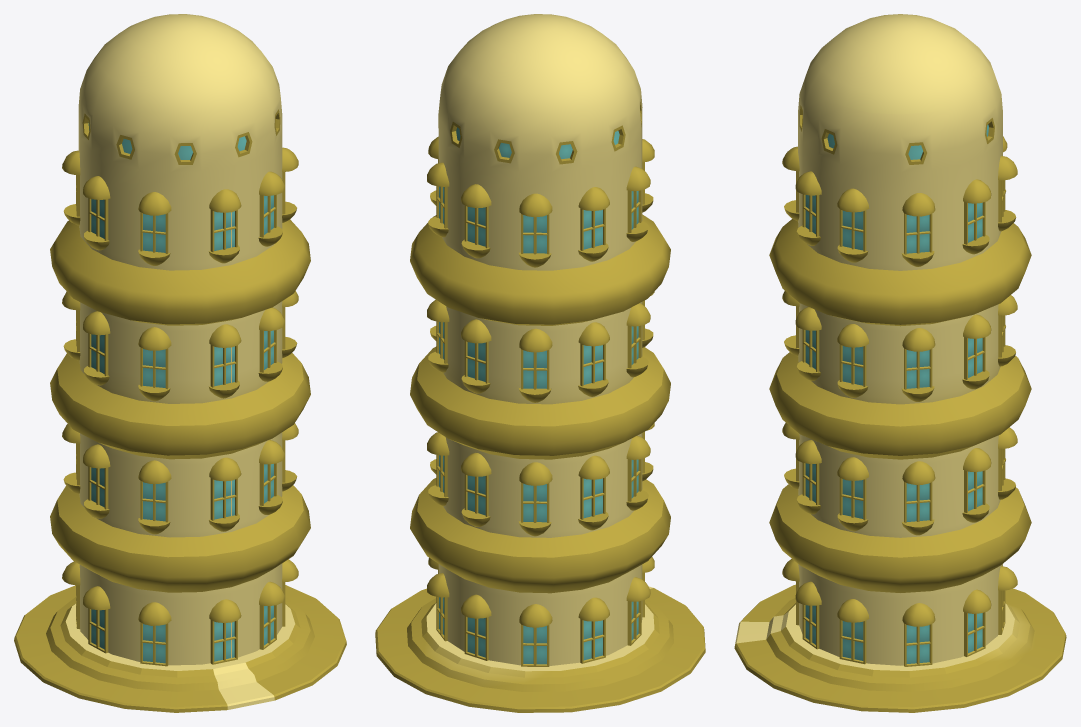
The model's file is SM_Skyscraper_24.fbx.
The picture shows the model from 3 angles, left to right: view 1: azimuth 30°, elevation 25°; view 2: azimuth 150°, elevation 25°; view 3: azimuth 270°, elevation 25°; orthographic projection.
Parts seen in each view (by area): view 1: SM_Skyscraper_24; view 2: SM_Skyscraper_24; view 3: SM_Skyscraper_24.
Boxes of the visible parts, x1,y1,x2,y2 form: SM_Skyscraper_24: [14, 14, 346, 712]; SM_Skyscraper_24: [375, 14, 705, 712]; SM_Skyscraper_24: [734, 14, 1066, 712].
Bounding box in the file's own units: 1107 × 2275 × 1107.
